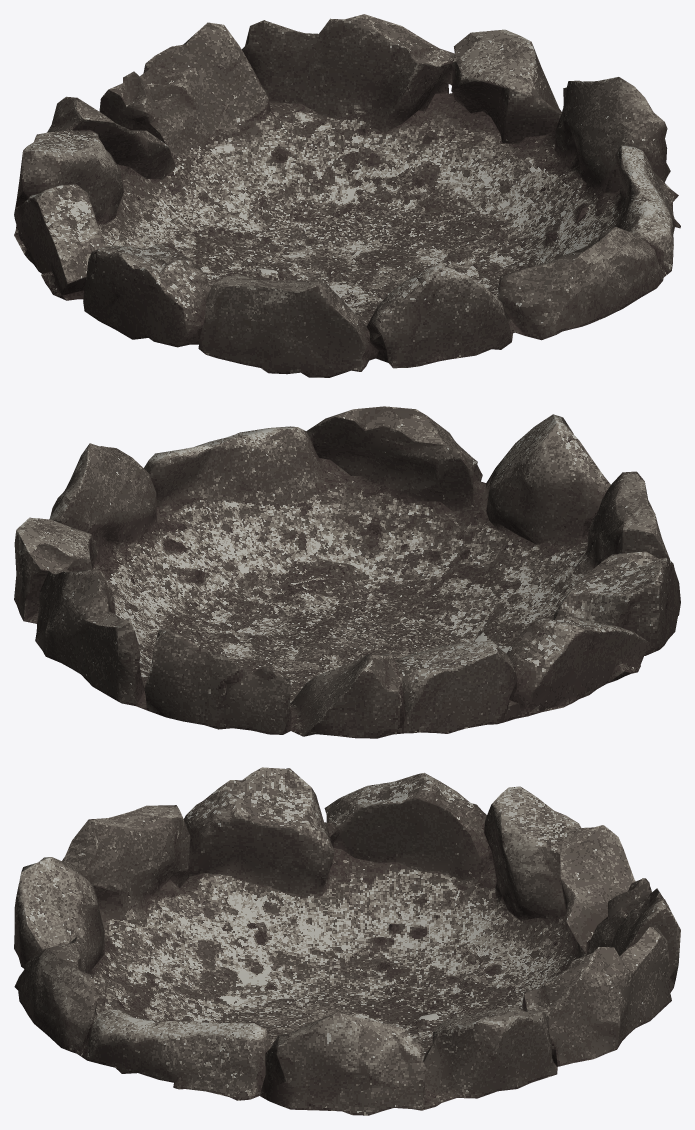
File: stone_fire_pit.glb
The picture shows the model from 3 angles, top to bottom: view 1: azimuth 30°, elevation 25°; view 2: azimuth 150°, elevation 25°; view 3: azimuth 270°, elevation 25°; orthographic projection.
Visible parts, largest first — view 1: body; view 2: body; view 3: body.
Part boxes in pixels (left/top/right/bottom): body: left=14, top=14, right=680, bottom=377; body: left=14, top=406, right=680, bottom=738; body: left=14, top=767, right=680, bottom=1115.
Bounding box in the file's own units: 1.45 × 0.3883 × 1.43.
Materials: 1 (1 with a texture image).
